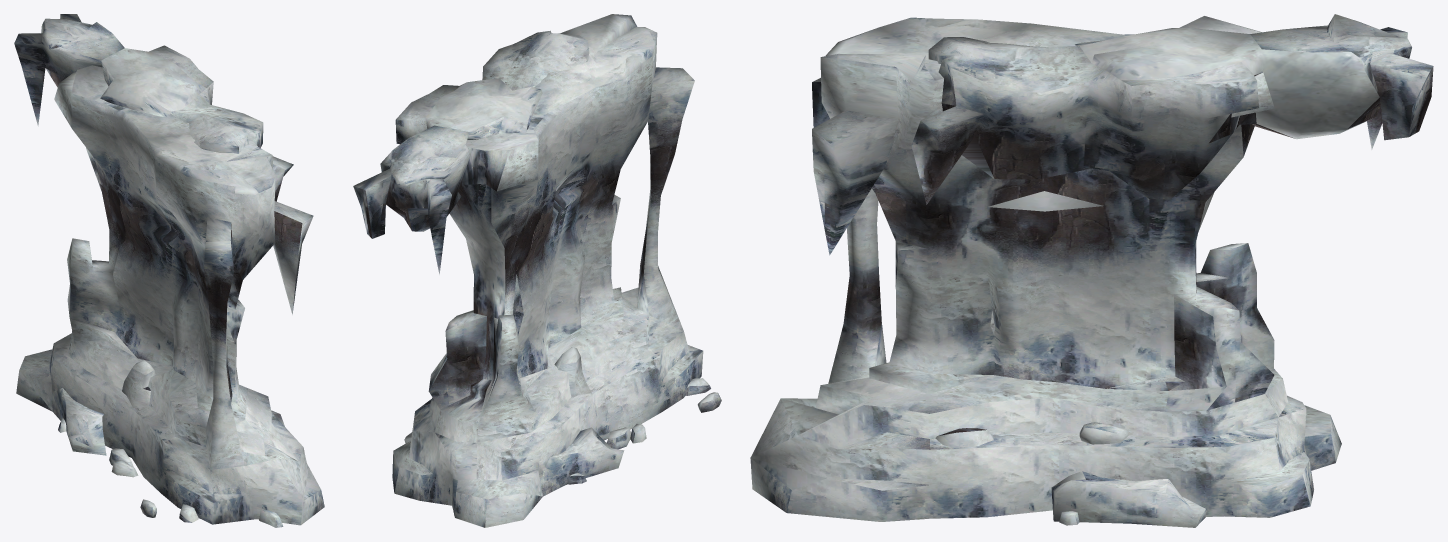
File: S_Rock_White017.FBX
The picture shows the model from 3 angles, left to right: view 1: azimuth 30°, elevation 25°; view 2: azimuth 150°, elevation 25°; view 3: azimuth 270°, elevation 25°; orthographic projection. The views are drawn at different scales.
Visible parts, largest first — view 1: M; view 2: M; view 3: M.
Part boxes in pixels (x1,y1,x2,y2): M: [14, 14, 324, 527]; M: [353, 14, 721, 527]; M: [750, 14, 1433, 527].
Size of the model in its own units: 373 by 946 by 693.
